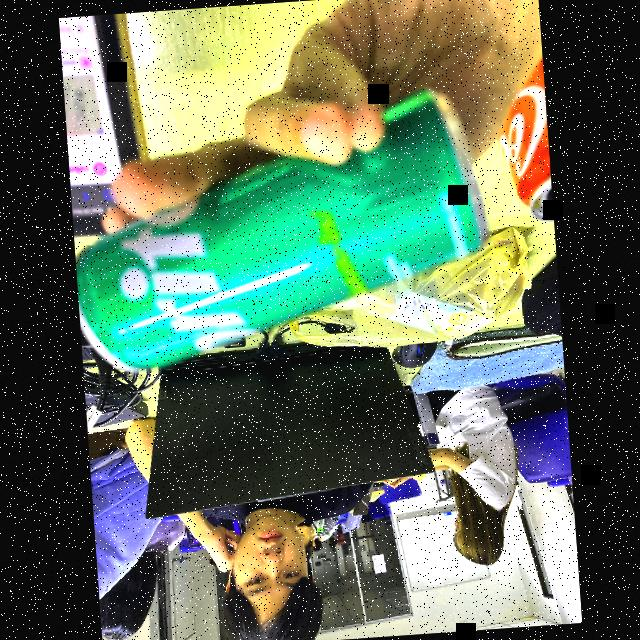can: (66, 93, 504, 380), (493, 65, 555, 244)
